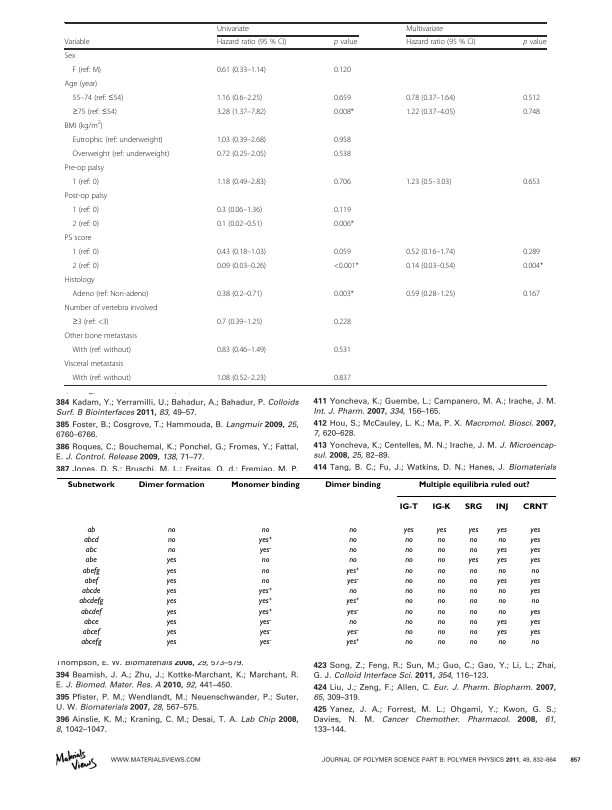borderless: (63, 21, 547, 385), (55, 476, 557, 655)
cell: (417, 481, 530, 490), (71, 149, 170, 159), (64, 303, 158, 313), (71, 135, 164, 145), (71, 289, 149, 299), (64, 331, 138, 341), (405, 38, 477, 48), (216, 38, 287, 48), (230, 481, 300, 490), (137, 481, 205, 490), (71, 345, 132, 355), (71, 373, 132, 383), (64, 359, 124, 369), (71, 93, 124, 103), (324, 481, 381, 490), (216, 65, 267, 75), (405, 93, 456, 103), (216, 107, 267, 117), (405, 107, 456, 117), (216, 135, 267, 145), (216, 149, 267, 159), (216, 177, 267, 187), (216, 247, 267, 257), (405, 247, 456, 257), (216, 261, 267, 271), (405, 261, 456, 271), (405, 289, 456, 299), (216, 345, 267, 355), (216, 373, 267, 383), (216, 93, 263, 103), (71, 107, 118, 117), (405, 177, 452, 187), (216, 205, 263, 215), (216, 219, 263, 229), (216, 289, 263, 299), (216, 317, 263, 327), (66, 481, 115, 490), (64, 120, 104, 131), (64, 191, 108, 201), (64, 163, 105, 173), (71, 317, 110, 327), (405, 25, 444, 34), (64, 79, 98, 89), (71, 65, 102, 75), (64, 275, 95, 285), (216, 25, 250, 34), (71, 177, 100, 187), (71, 205, 100, 215), (71, 219, 100, 229), (71, 247, 100, 257), (71, 261, 100, 271), (64, 233, 92, 243), (333, 261, 360, 271), (64, 38, 90, 48), (333, 38, 358, 48), (522, 38, 547, 48), (522, 503, 548, 512), (78, 597, 104, 606), (79, 607, 102, 617), (333, 107, 355, 117), (333, 219, 355, 229), (522, 261, 544, 271), (333, 289, 355, 299), (80, 638, 102, 647), (333, 65, 352, 75), (333, 93, 352, 103), (522, 93, 541, 103), (522, 107, 541, 117), (333, 135, 352, 145), (333, 149, 352, 159), (333, 177, 352, 187), (522, 177, 541, 187), (333, 205, 352, 215), (333, 247, 352, 257), (522, 247, 541, 257), (522, 289, 541, 299), (333, 317, 352, 327), (333, 345, 352, 355), (333, 373, 352, 383), (81, 566, 100, 576), (398, 503, 418, 512), (431, 503, 451, 512), (463, 503, 483, 512), (81, 587, 101, 596), (81, 628, 100, 637), (82, 535, 99, 545), (82, 617, 99, 627), (83, 576, 99, 586), (258, 535, 273, 545), (345, 566, 360, 576), (258, 607, 273, 617), (258, 617, 272, 627), (494, 503, 509, 512), (258, 587, 273, 596), (258, 597, 273, 606), (345, 597, 360, 606), (345, 638, 360, 647), (346, 576, 359, 586), (346, 607, 359, 617), (258, 546, 272, 555), (258, 628, 272, 637), (258, 638, 272, 647), (64, 51, 76, 61), (435, 525, 447, 535), (467, 525, 479, 535), (529, 525, 541, 535), (529, 535, 541, 545), (165, 566, 177, 576), (165, 576, 177, 586), (529, 576, 541, 586), (165, 607, 177, 617), (529, 607, 541, 617), (165, 617, 177, 627), (529, 617, 541, 627), (84, 546, 97, 555), (84, 556, 97, 565), (346, 628, 359, 637), (403, 525, 414, 535), (496, 525, 507, 535), (496, 576, 507, 586), (496, 617, 507, 627), (529, 546, 541, 555), (165, 556, 177, 565), (467, 556, 479, 565), (529, 556, 541, 565), (165, 587, 177, 596), (529, 587, 541, 596), (165, 597, 177, 606), (165, 628, 177, 637), (529, 628, 541, 637), (165, 638, 177, 647), (86, 525, 96, 535), (166, 525, 176, 535), (260, 525, 270, 535), (166, 535, 176, 545), (436, 535, 446, 545), (468, 535, 478, 545), (260, 566, 270, 576), (436, 566, 446, 576), (468, 566, 478, 576), (530, 566, 540, 576), (260, 576, 270, 586), (436, 576, 446, 586), (468, 576, 478, 586), (436, 607, 446, 617), (468, 607, 478, 617), (436, 617, 446, 627), (468, 617, 478, 627), (496, 546, 507, 555), (496, 556, 507, 565), (496, 628, 507, 637), (348, 525, 357, 535), (348, 535, 357, 545), (404, 535, 413, 545), (497, 535, 506, 545), (166, 546, 176, 555), (436, 546, 446, 555), (468, 546, 478, 555), (260, 556, 270, 565), (436, 556, 446, 565), (404, 566, 413, 576), (497, 566, 506, 576), (404, 576, 413, 586), (436, 587, 446, 596), (468, 587, 478, 596), (436, 597, 446, 606), (468, 597, 478, 606), (530, 597, 540, 606), (404, 607, 413, 617), (497, 607, 506, 617), (348, 617, 357, 627), (404, 617, 413, 627), (436, 628, 446, 637), (468, 628, 478, 637), (436, 638, 446, 647), (468, 638, 478, 647), (530, 638, 540, 647), (348, 546, 357, 555), (404, 546, 413, 555), (348, 556, 357, 565), (404, 556, 413, 565), (348, 587, 357, 596), (404, 587, 413, 596), (497, 587, 506, 596), (404, 597, 413, 606), (497, 597, 506, 606), (404, 628, 413, 637), (404, 638, 413, 647), (497, 638, 506, 647)
